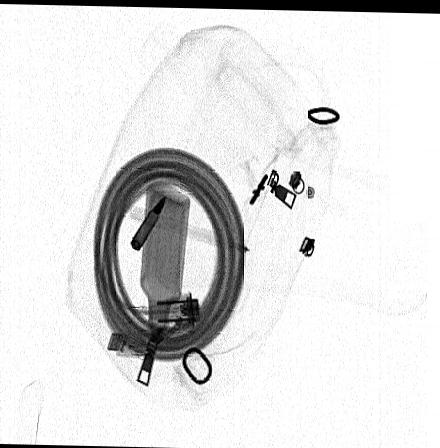Bullet: (128, 194, 165, 251)
